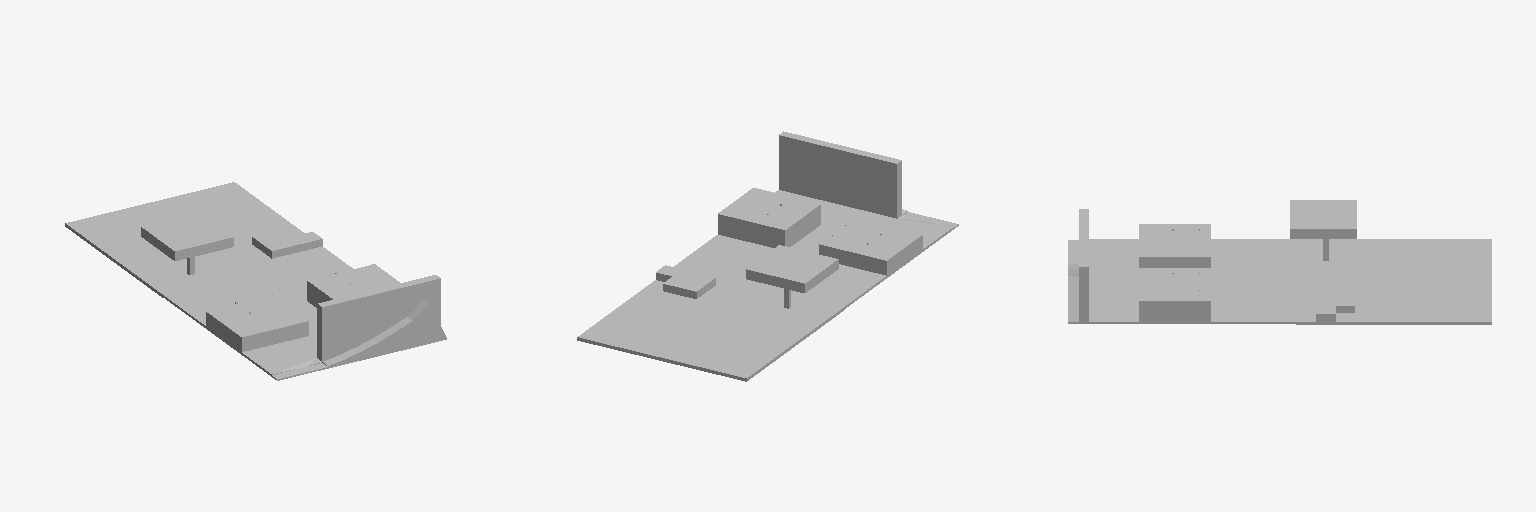
The model's file is bataille3.obj.
3 renders of one model, left to right at view 1: azimuth 30°, elevation 25°; view 2: azimuth 150°, elevation 25°; view 3: azimuth 270°, elevation 25°, orthographic.
Visible parts, largest first — view 1: Terrain; view 2: Terrain; view 3: Terrain.
Boxes of the visible parts, <box> form: Terrain: <box>65,182,446,380</box>; Terrain: <box>577,131,958,381</box>; Terrain: <box>1068,200,1491,324</box>.
Size of the model in its own units: 42.15 by 14.5 by 91.37.